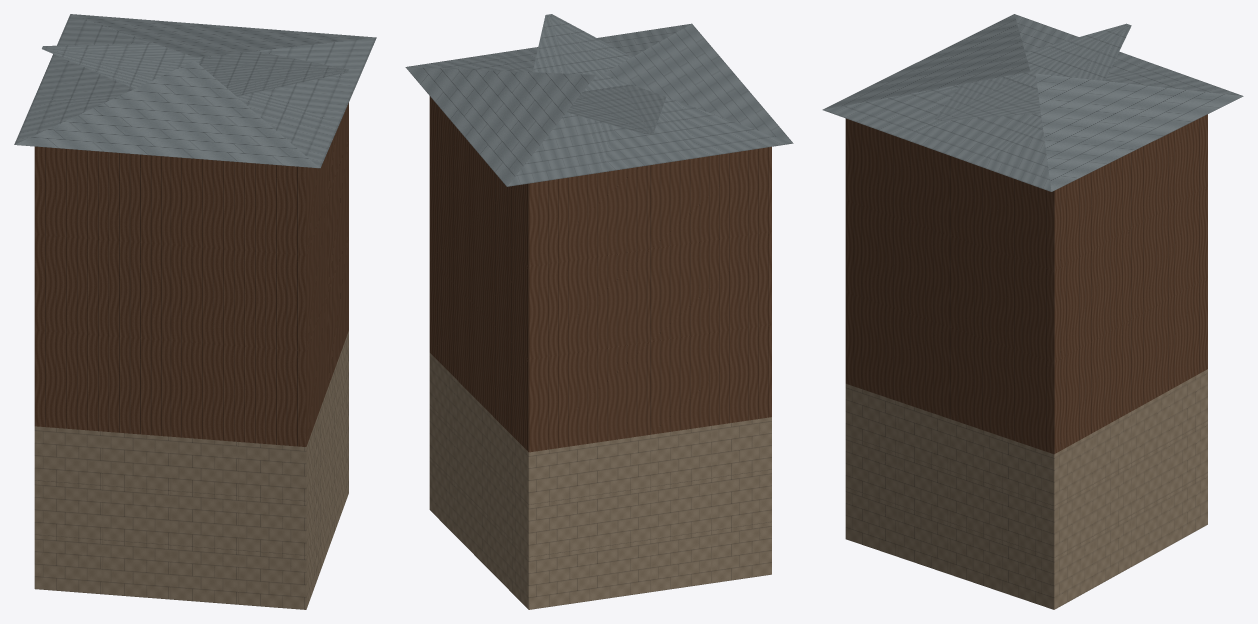
Rendered from bld_c10_15_455.gltf.
3 views of the same model, side by side, from view 1: azimuth 30°, elevation 25°; view 2: azimuth 150°, elevation 25°; view 3: azimuth 270°, elevation 25° (orthographic). The views are drawn at different scales.
Visible parts, largest first — view 1: bld_c10_15_455; view 2: bld_c10_15_455; view 3: bld_c10_15_455.
Boxes of the visible parts, x1,y1,x2,y2 form: bld_c10_15_455: (14, 14, 376, 609); bld_c10_15_455: (405, 14, 793, 609); bld_c10_15_455: (822, 14, 1243, 609).
Bounding box in the file's own units: 12.52 × 15.1 × 12.53.
Materials: 3 (3 with a texture image).
